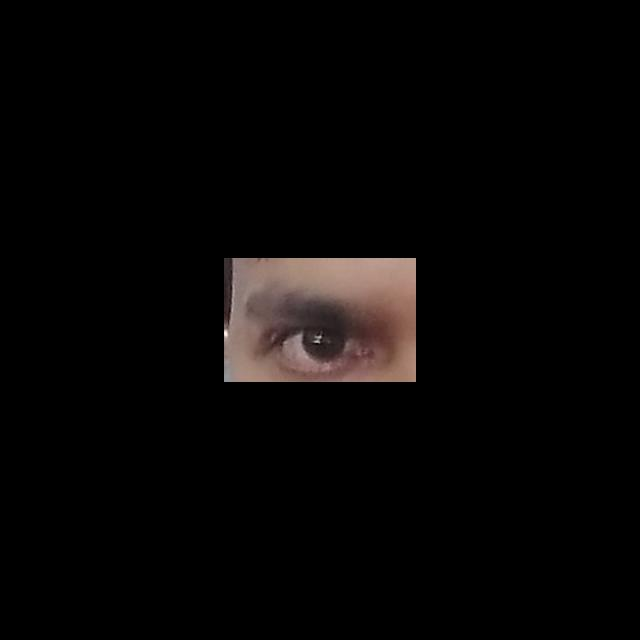eye: (283, 327, 359, 361)
iris: (303, 328, 346, 360)
